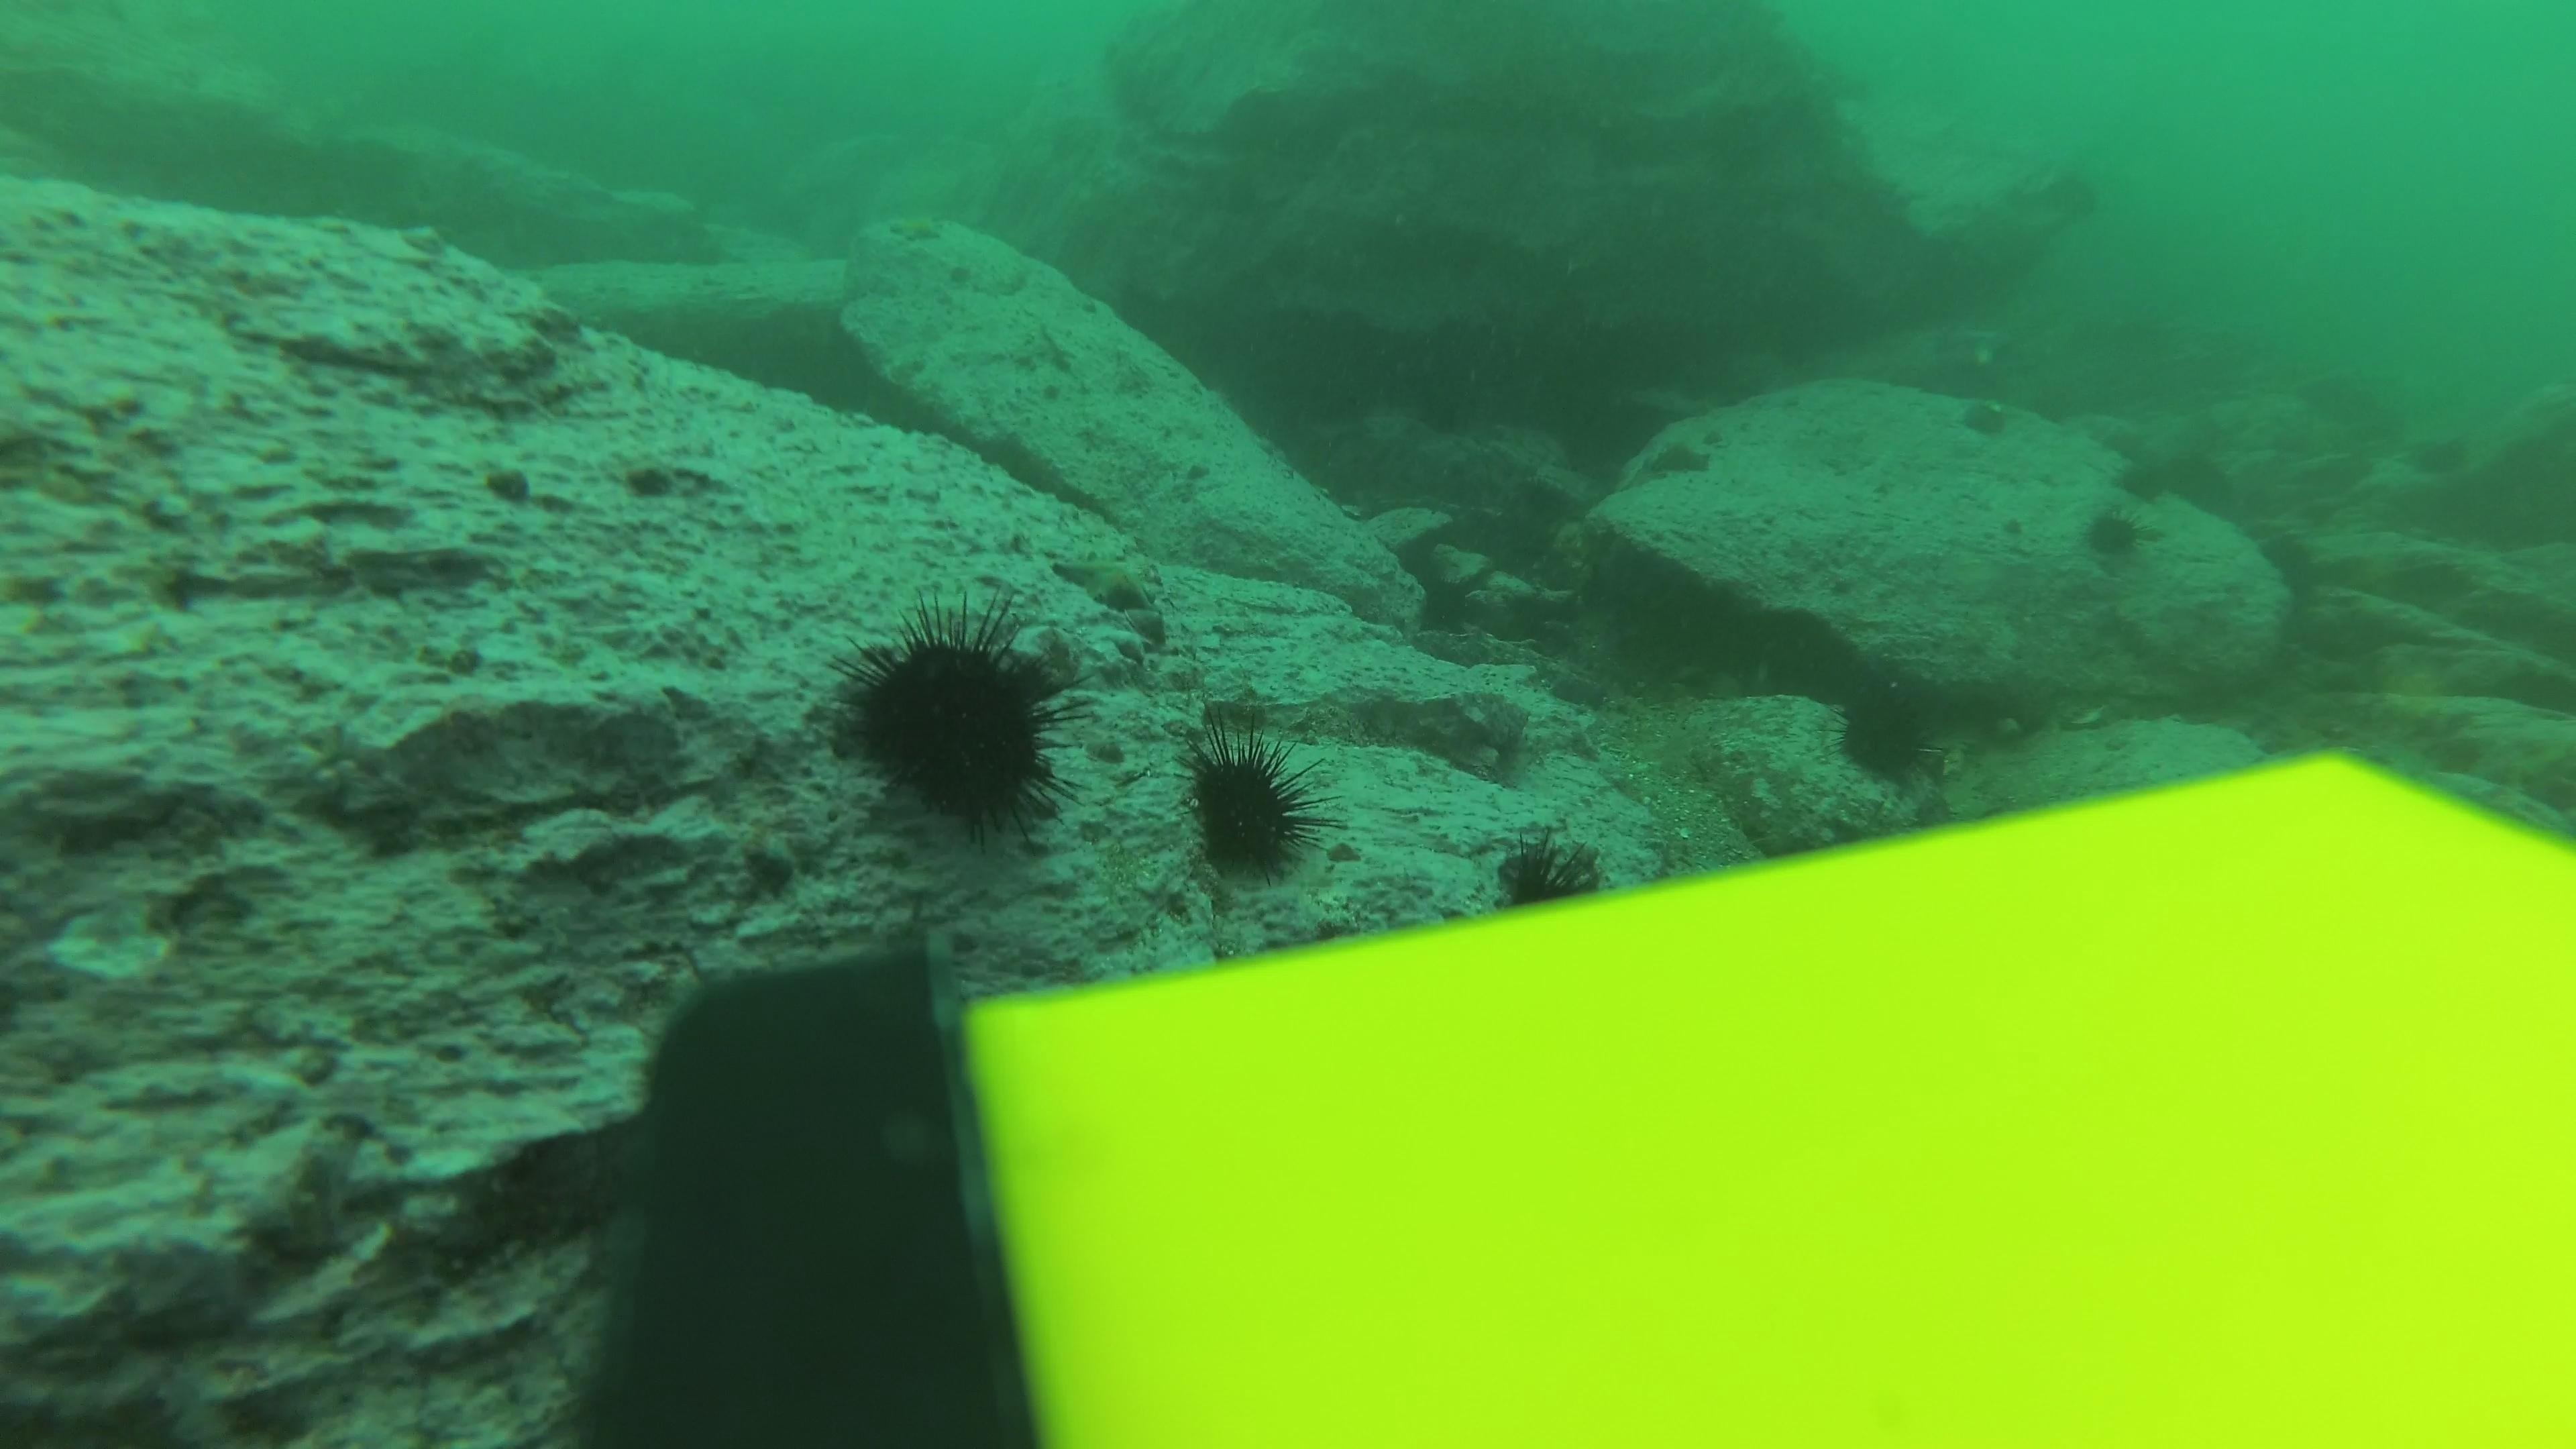echinus: (824, 594, 1088, 846), (1169, 722, 1330, 888), (1824, 674, 1946, 789), (1484, 824, 1614, 915), (2104, 437, 2190, 511), (1941, 380, 2026, 455), (2160, 448, 2245, 522), (2243, 522, 2328, 596), (2074, 499, 2160, 571)
starfish: (1046, 548, 1171, 617), (1621, 419, 1725, 487), (1527, 653, 1615, 713), (878, 203, 952, 248)
